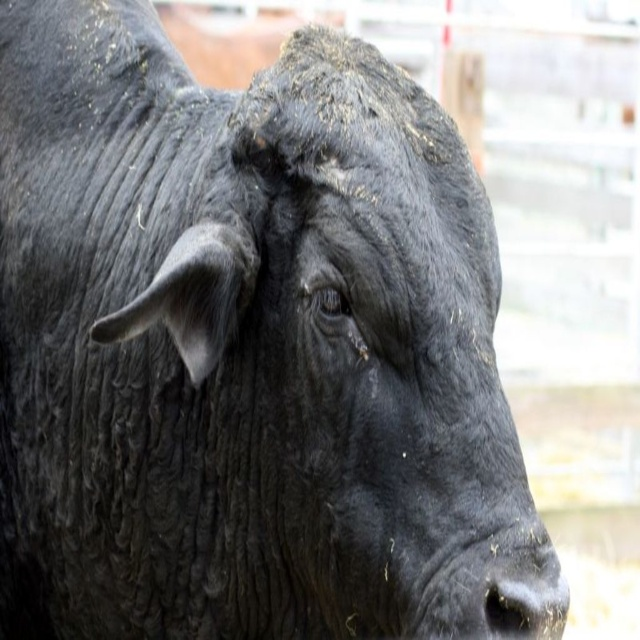Bull: (0, 0, 570, 640)
